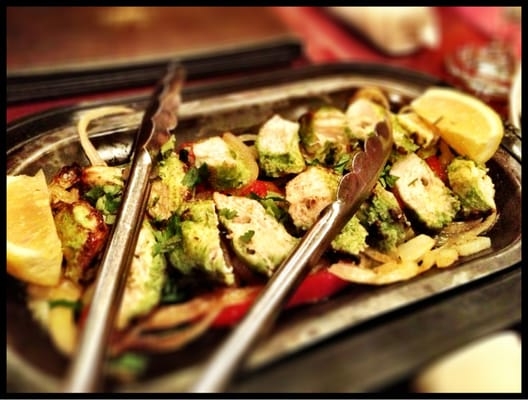curry: (330, 183, 414, 258)
pizza: (441, 7, 520, 102)
